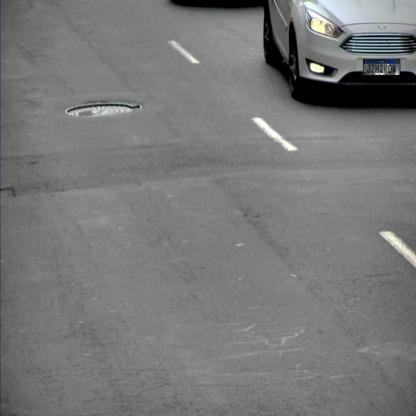PlacaM: (363, 59, 400, 76)
